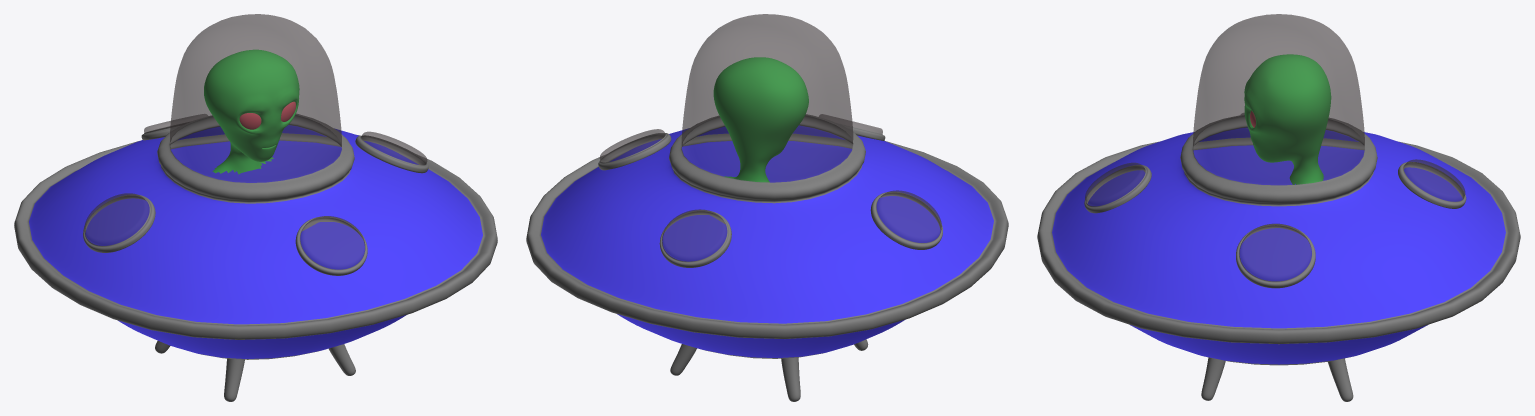
File: UFO.fbx
3 views of the same model, side by side, from view 1: azimuth 30°, elevation 25°; view 2: azimuth 150°, elevation 25°; view 3: azimuth 270°, elevation 25° (orthographic). The views are drawn at different scales.
Parts seen in each view (by area): view 1: ufo; view 2: ufo; view 3: ufo.
Part boxes in pixels (x1,y1,x2,y2): ufo: (14,14,497,401); ufo: (526,14,1008,401); ufo: (1037,14,1520,401).
Bounding box in the file's own units: 367 × 292 × 367.
